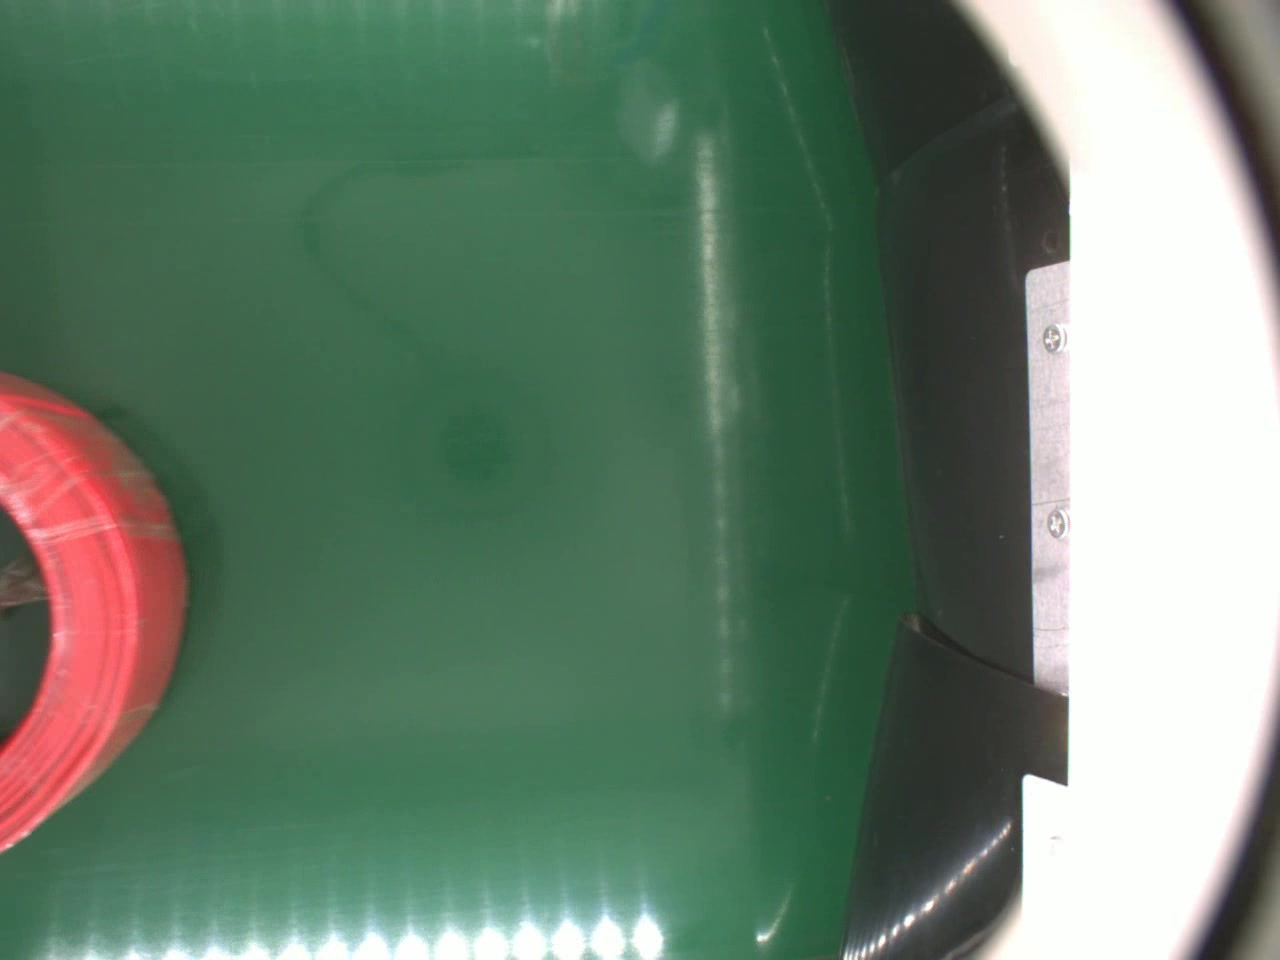red: (0, 370, 191, 853)
